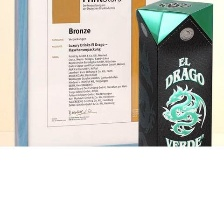carton: (135, 0, 224, 147)
